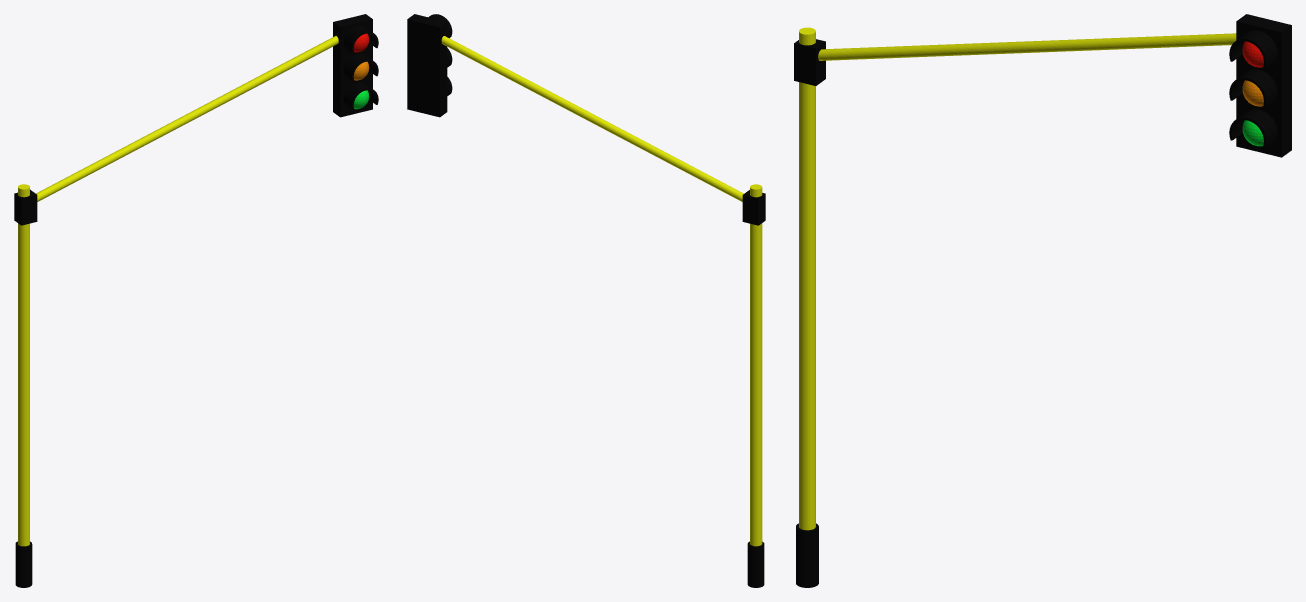
The model's file is Traffic_light_4.fbx.
3 renders of one model, left to right at view 1: azimuth 30°, elevation 25°; view 2: azimuth 150°, elevation 25°; view 3: azimuth 330°, elevation 25°, orthographic. The views are drawn at different scales.
Parts seen in each view (by area): view 1: Pole.007, TrafficLightBox.005, Cylinder.003, Cube.001, OrangeHat.005, RedHat.005, GreenHat.005; view 2: Pole.007, TrafficLightBox.005, Cylinder.003, Cube.001; view 3: Pole.007, TrafficLightBox.005, Cylinder.003, Cube.001, RedHat.005, OrangeHat.005, GreenHat.005.
Boxes of the visible parts, x1=… form: Pole.007: x1=18, y1=36, x2=338, y2=546; TrafficLightBox.005: x1=333, y1=14, x2=372, y2=117; Cylinder.003: x1=15, y1=541, x2=32, y2=587; Cube.001: x1=14, y1=189, x2=37, y2=225; OrangeHat.005: x1=343, y1=53, x2=378, y2=81; RedHat.005: x1=343, y1=25, x2=378, y2=53; GreenHat.005: x1=343, y1=82, x2=378, y2=110; Pole.007: x1=441, y1=36, x2=762, y2=546; TrafficLightBox.005: x1=407, y1=14, x2=447, y2=117; Cylinder.003: x1=747, y1=541, x2=764, y2=587; Cube.001: x1=742, y1=190, x2=765, y2=225; Pole.007: x1=799, y1=27, x2=1236, y2=530; TrafficLightBox.005: x1=1236, y1=14, x2=1291, y2=157; Cylinder.003: x1=796, y1=523, x2=818, y2=587; Cube.001: x1=794, y1=39, x2=825, y2=85; RedHat.005: x1=1229, y1=30, x2=1277, y2=69; OrangeHat.005: x1=1229, y1=69, x2=1277, y2=108; GreenHat.005: x1=1229, y1=109, x2=1277, y2=148.
Size of the model in its own units: 429 by 562 by 34.35.
